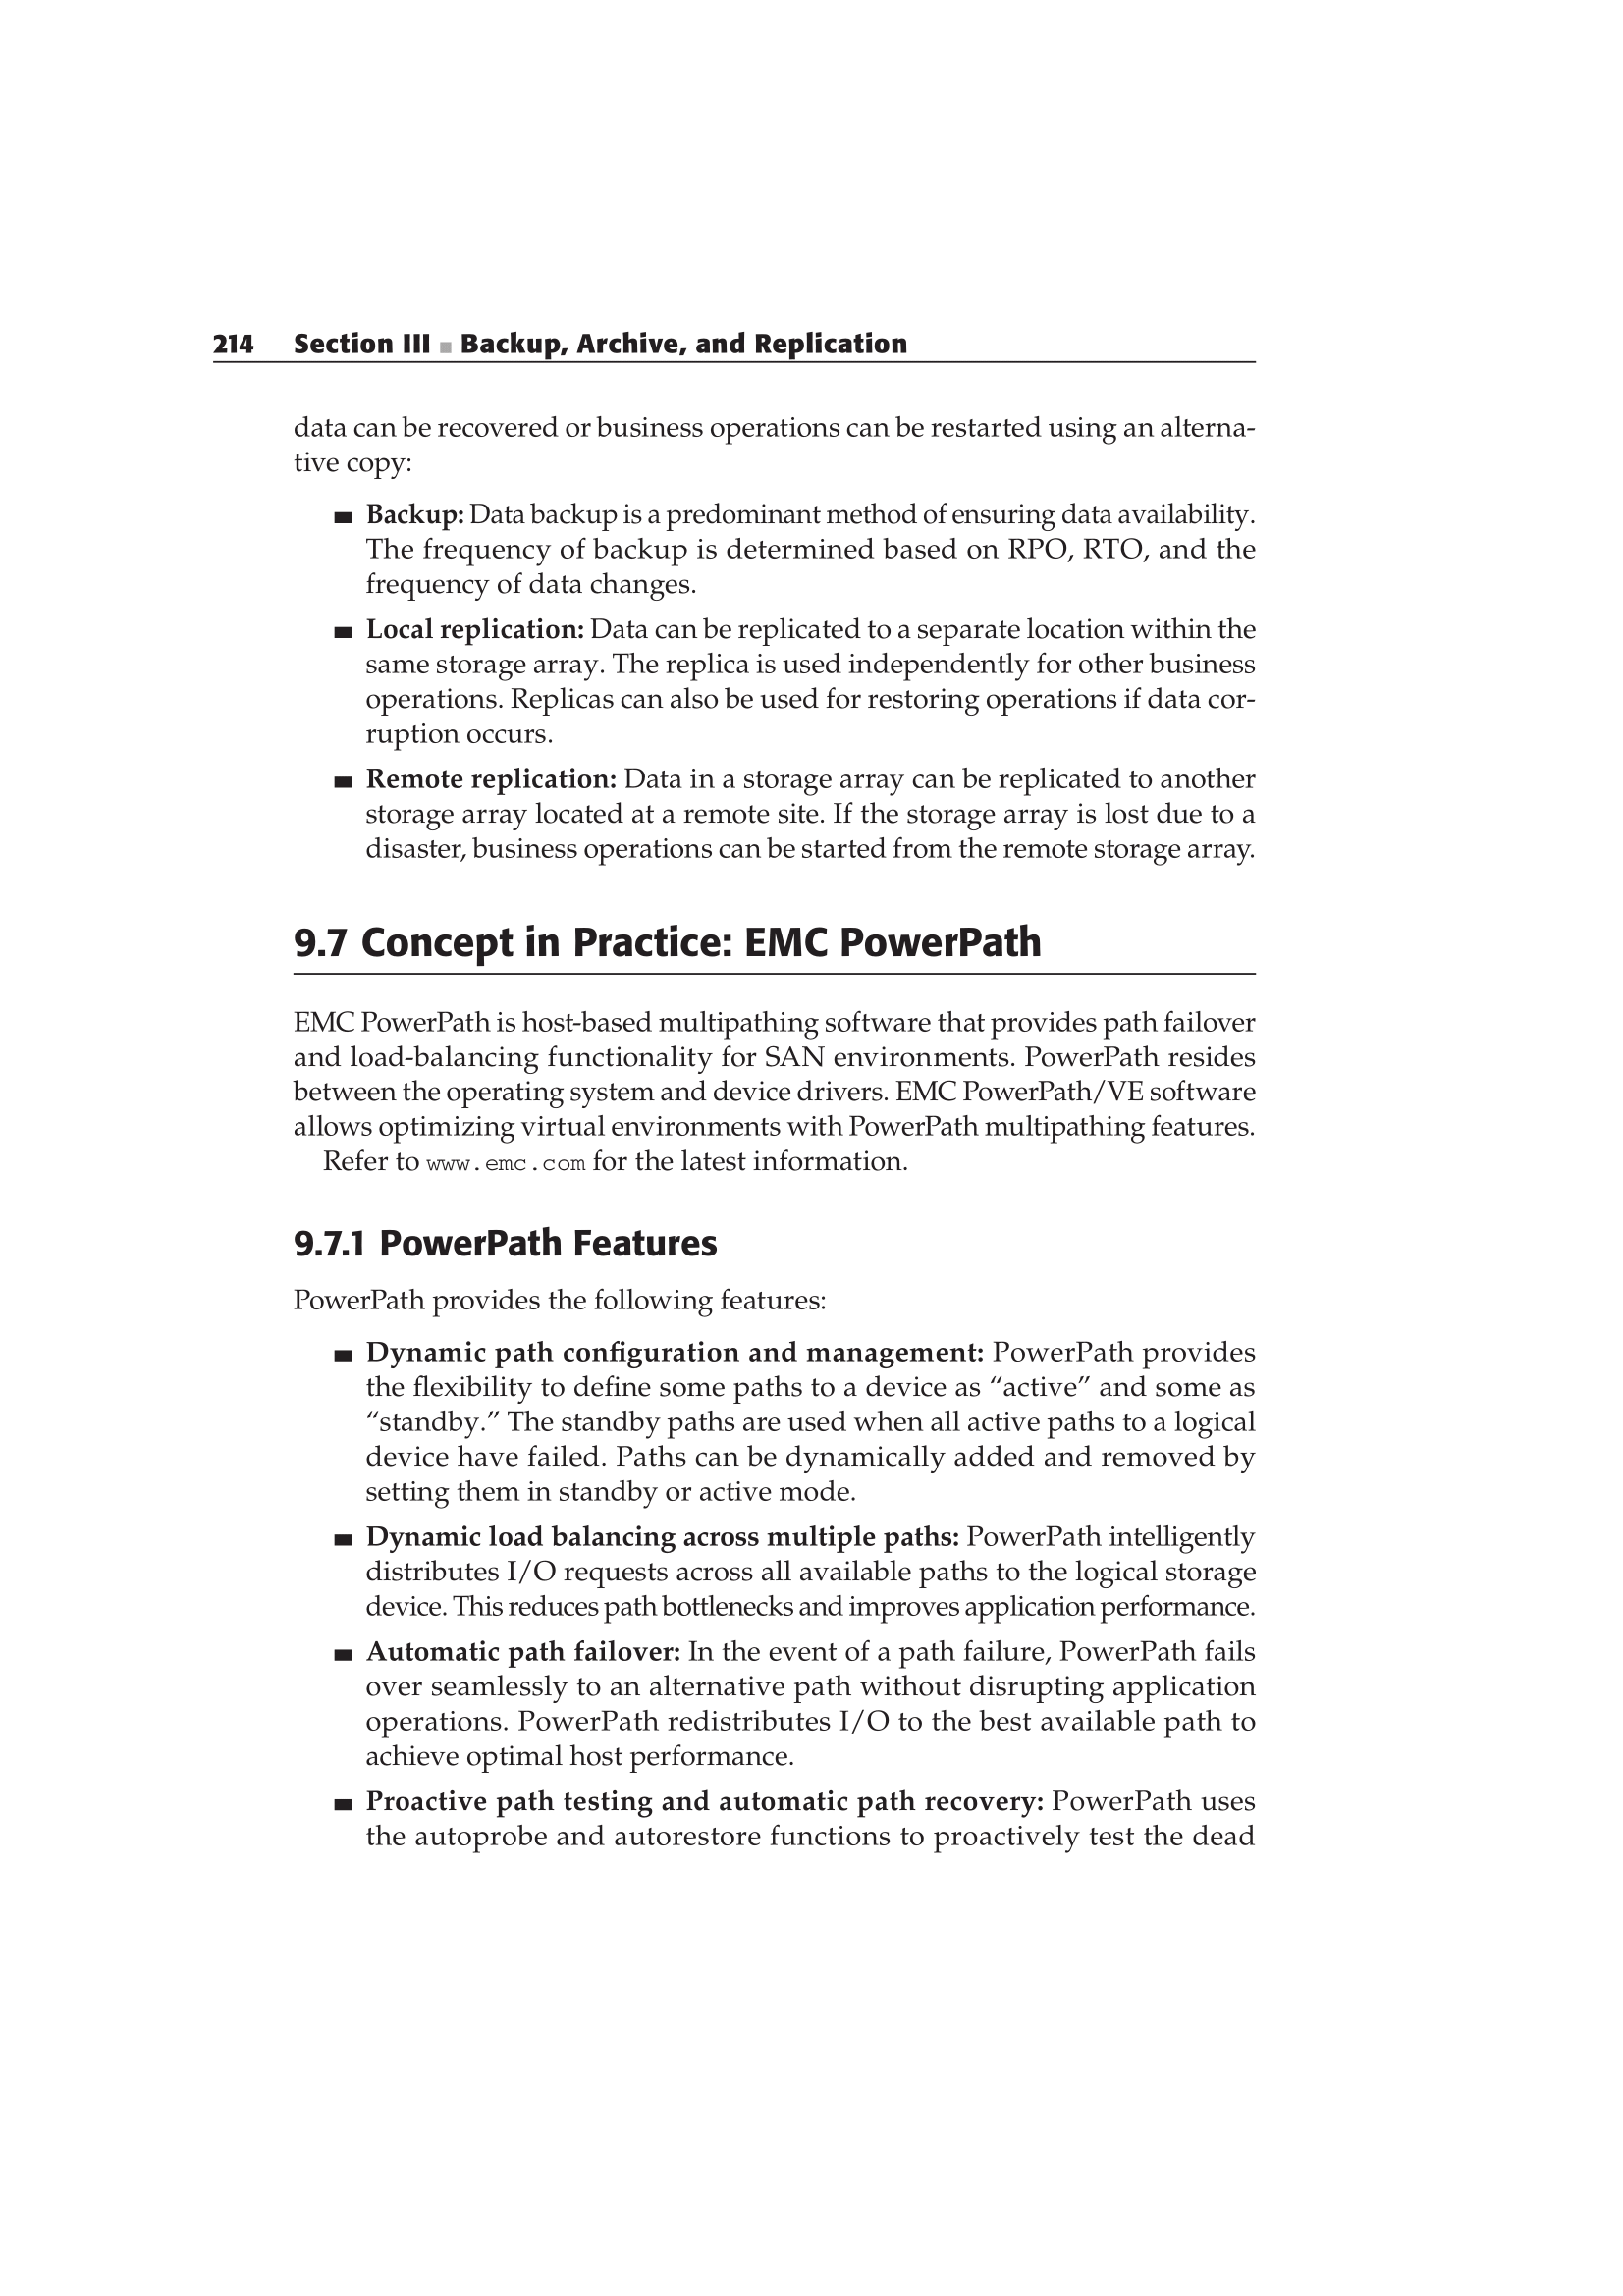Paragraph: (267, 1002, 1295, 1213), (302, 1338, 1302, 1511), (246, 757, 1382, 899), (207, 400, 1379, 504), (239, 899, 1298, 988), (128, 318, 1194, 376)
